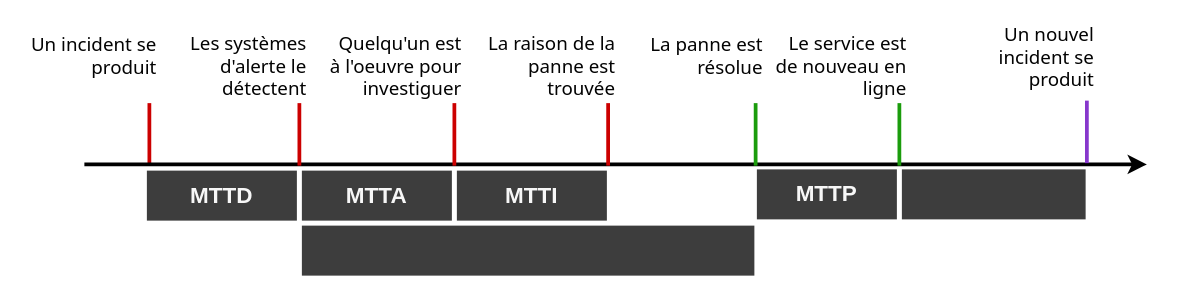
This 1180x296 diagram has some shape labels left out. Here are the shapes that lost their labels. From the top down, the centre of each, then its label:
At point (993, 194): "MTBF".
At point (527, 250): "MTTR".
